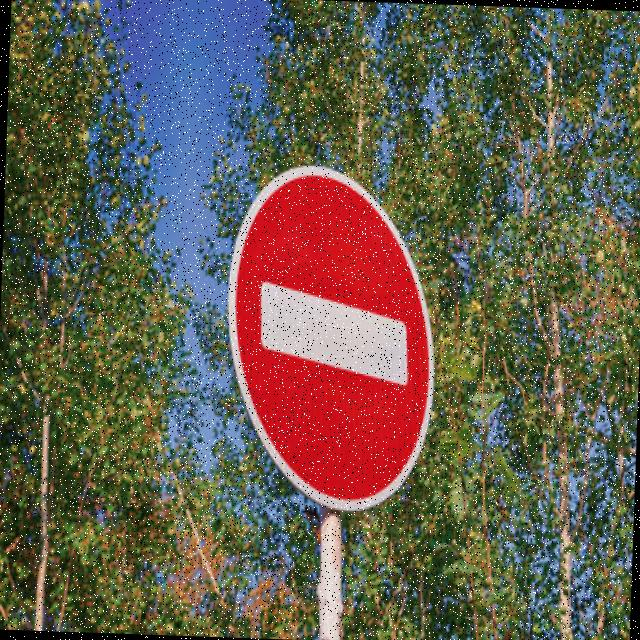do_not_enter: (206, 141, 461, 528)
